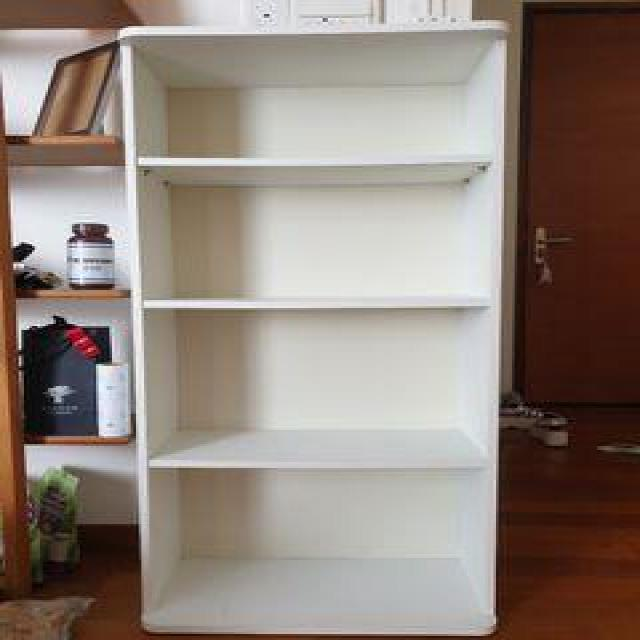Shelf: (112, 23, 511, 640)
